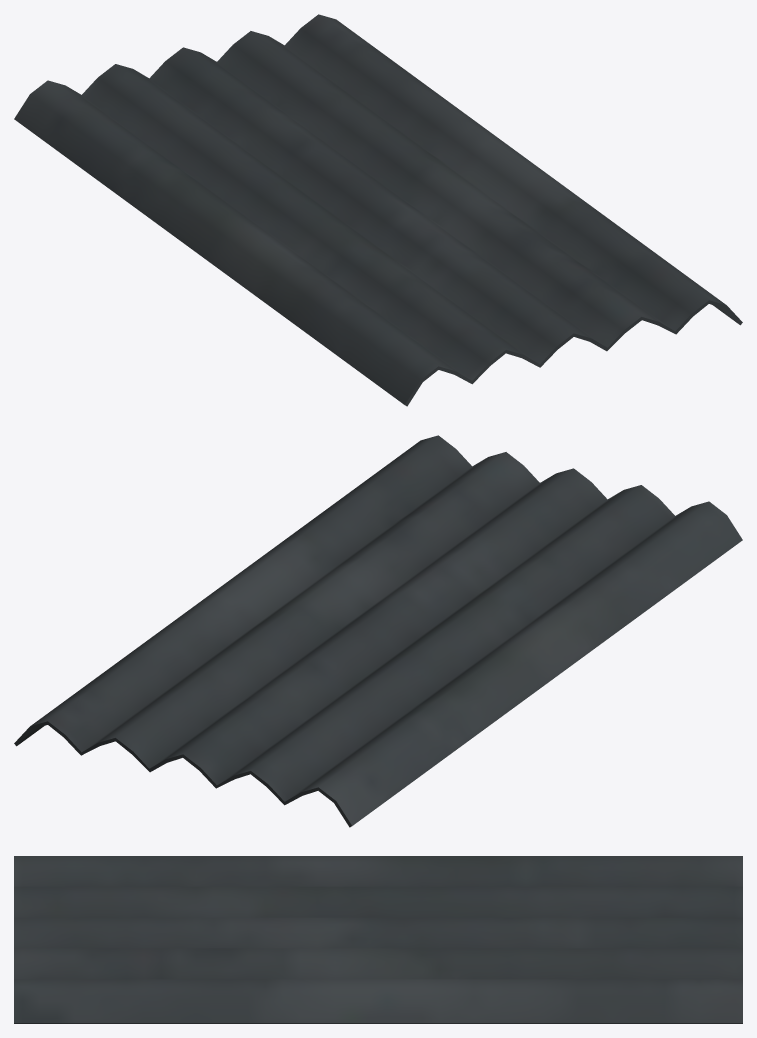
The model's file is slate_long.obj.
The picture shows the model from 3 angles, top to bottom: view 1: azimuth 30°, elevation 25°; view 2: azimuth 150°, elevation 25°; view 3: azimuth 270°, elevation 25°; orthographic projection. The views are drawn at different scales.
Visible parts, largest first — view 1: slate_long__EXPORT_TEMP; view 2: slate_long__EXPORT_TEMP; view 3: slate_long__EXPORT_TEMP.
Part boxes in pixels (x1,y1,x2,y2): slate_long__EXPORT_TEMP: (14, 14, 742, 406); slate_long__EXPORT_TEMP: (14, 435, 742, 827); slate_long__EXPORT_TEMP: (14, 856, 742, 1023).
Bounding box in the file's own units: 1 × 0.0925 × 2.
